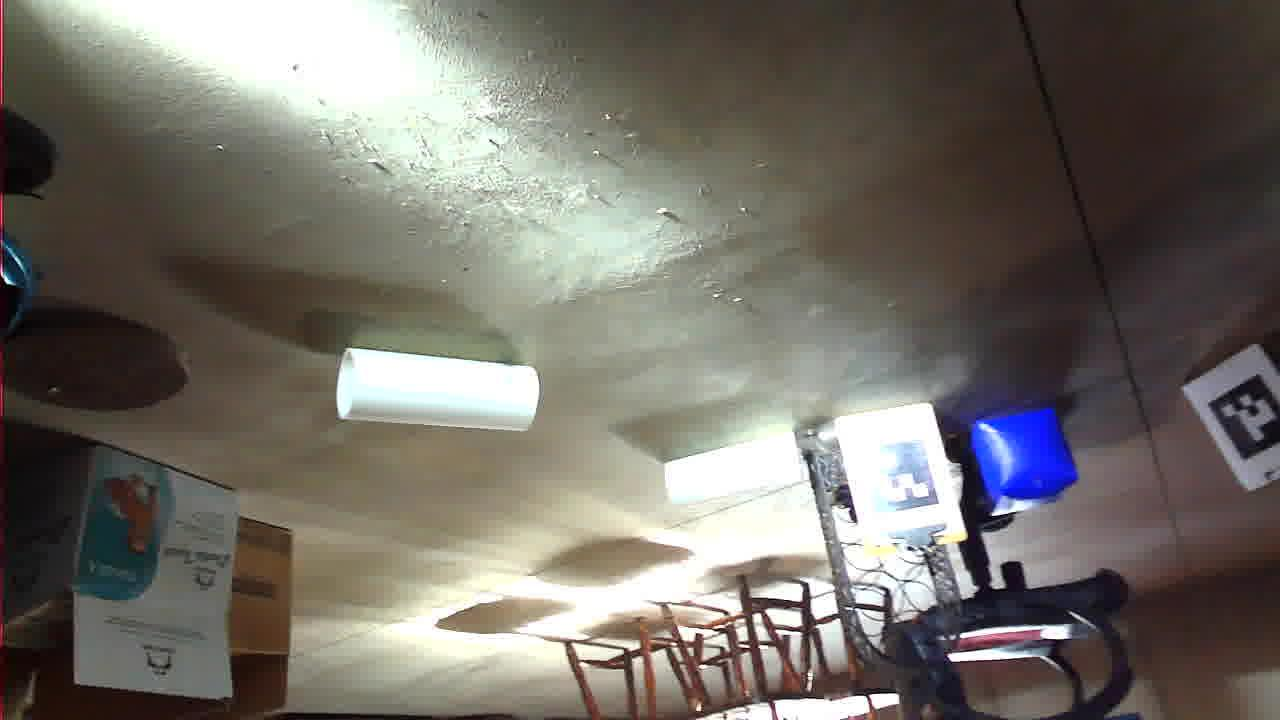coral: (741, 288, 943, 372), (483, 215, 614, 287)
